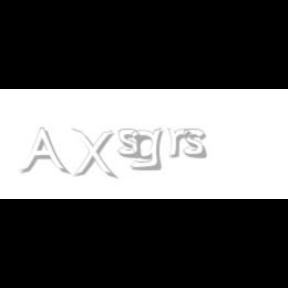A: (19, 128, 67, 176)
X: (71, 128, 115, 180)
g: (130, 128, 166, 171)
r: (168, 128, 194, 158)
s: (118, 128, 146, 160), (183, 128, 211, 160)
